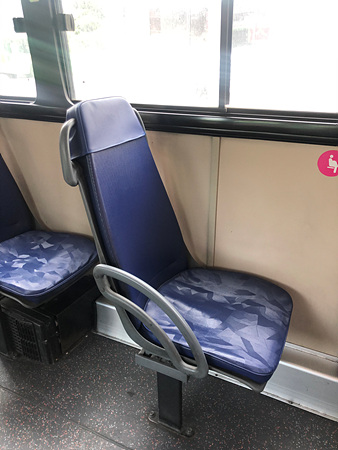seat: (63, 95, 294, 390)
